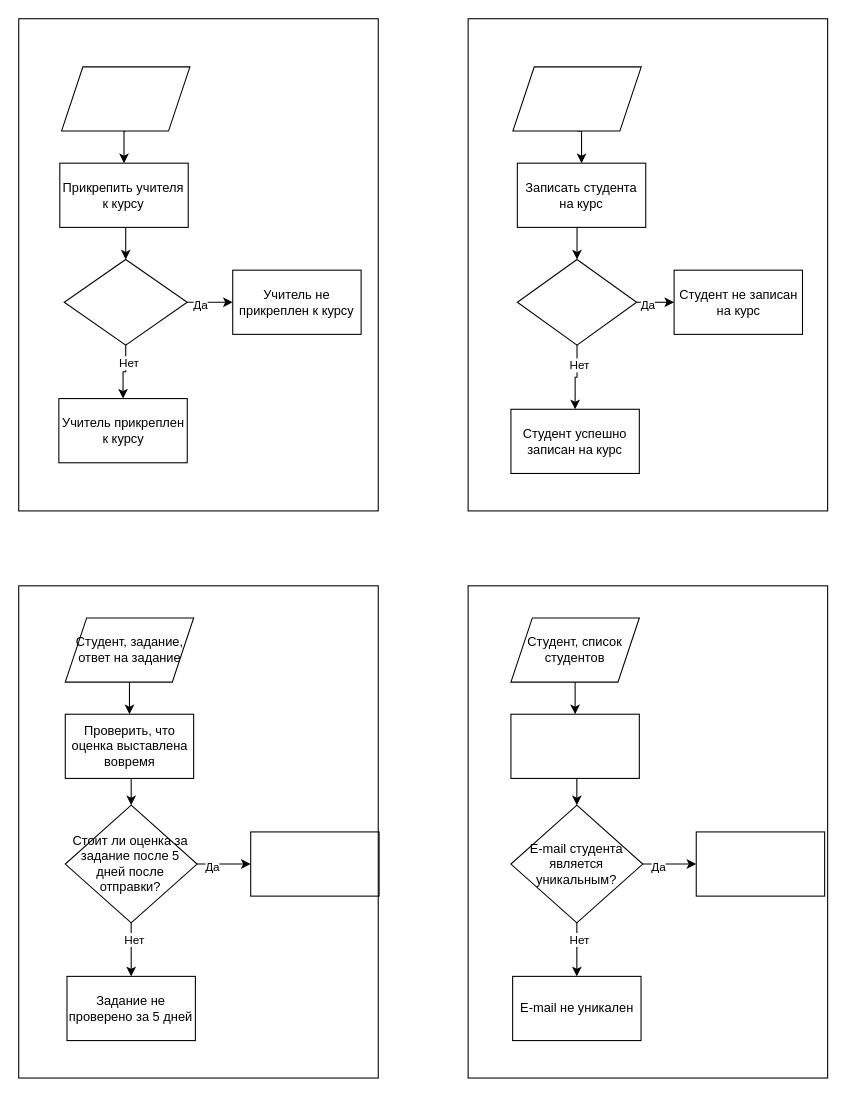
Some shapes in this 846 by 1097 pixel diagram are drawn without their labels. Each missing label, with the centre of its shape:
"E-mail уникален" belongs at point 760,863.
"Задание проверено за 5 дней" belongs at point 314,863.
"Проверить уникальность e-mail" belongs at point 574,745.
"Студент записан на 5 курсов?" belongs at point 576,301.
"Студент, курс, список курсов" belongs at point 576,98.
"Учитель прикреплен к 3-м курсам?" belongs at point 125,301.
"Учитель, курс, список курсов" belongs at point 125,98.
